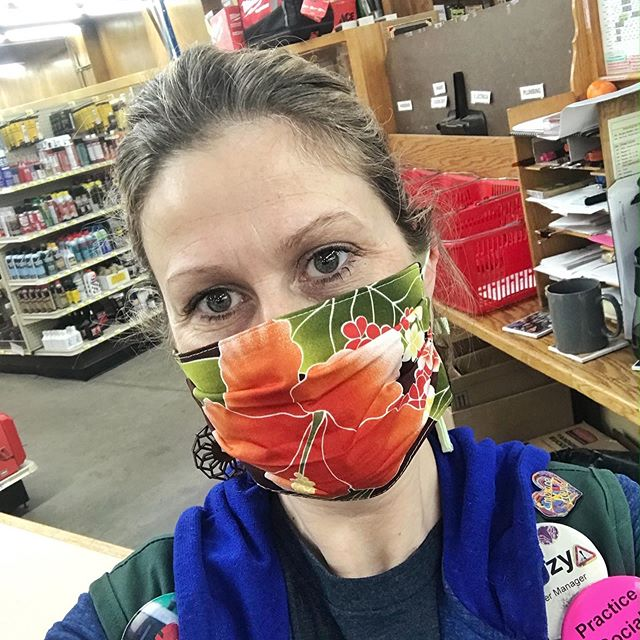homemade: (162, 271, 447, 495)
